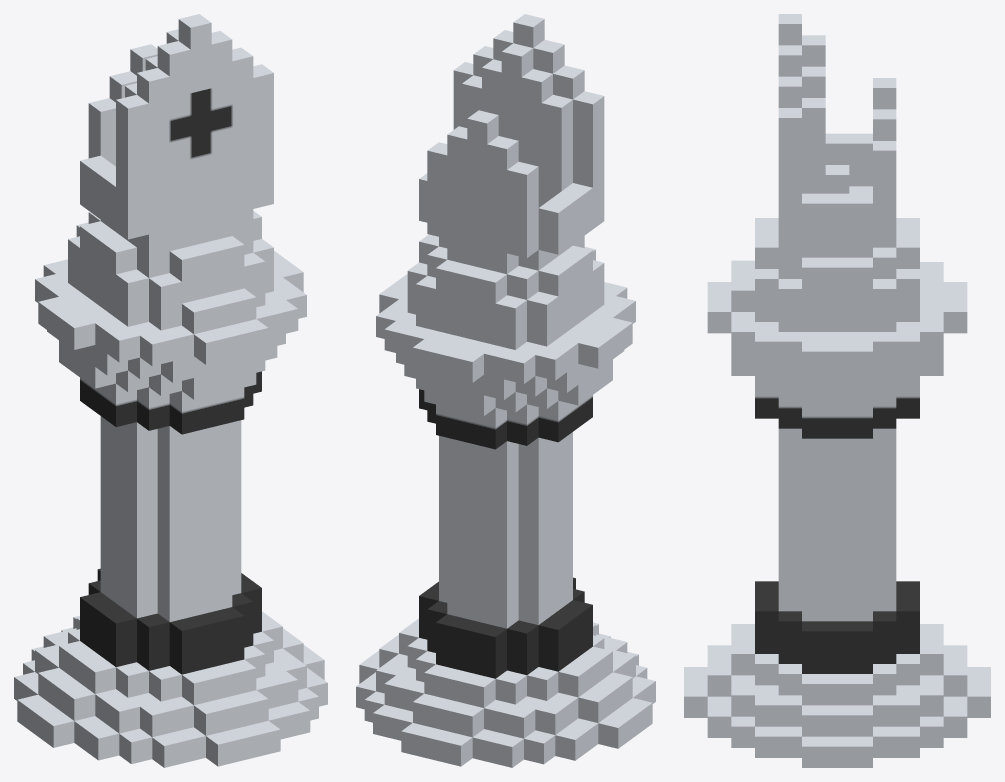
File: whiteB.dae
The picture shows the model from 3 angles, left to right: view 1: azimuth 30°, elevation 25°; view 2: azimuth 150°, elevation 25°; view 3: azimuth 270°, elevation 25°; orthographic projection. The views are drawn at different scales.
Visible parts, largest first — view 1: whiteB; view 2: whiteB; view 3: whiteB.
Part boxes in pixels (left/top/right/bottom): whiteB: left=14, top=14, right=327, bottom=767; whiteB: left=356, top=14, right=655, bottom=767; whiteB: left=684, top=14, right=990, bottom=767.
Size of the model in its own units: 13 by 32 by 13.
Materials: 1 (1 with a texture image).
